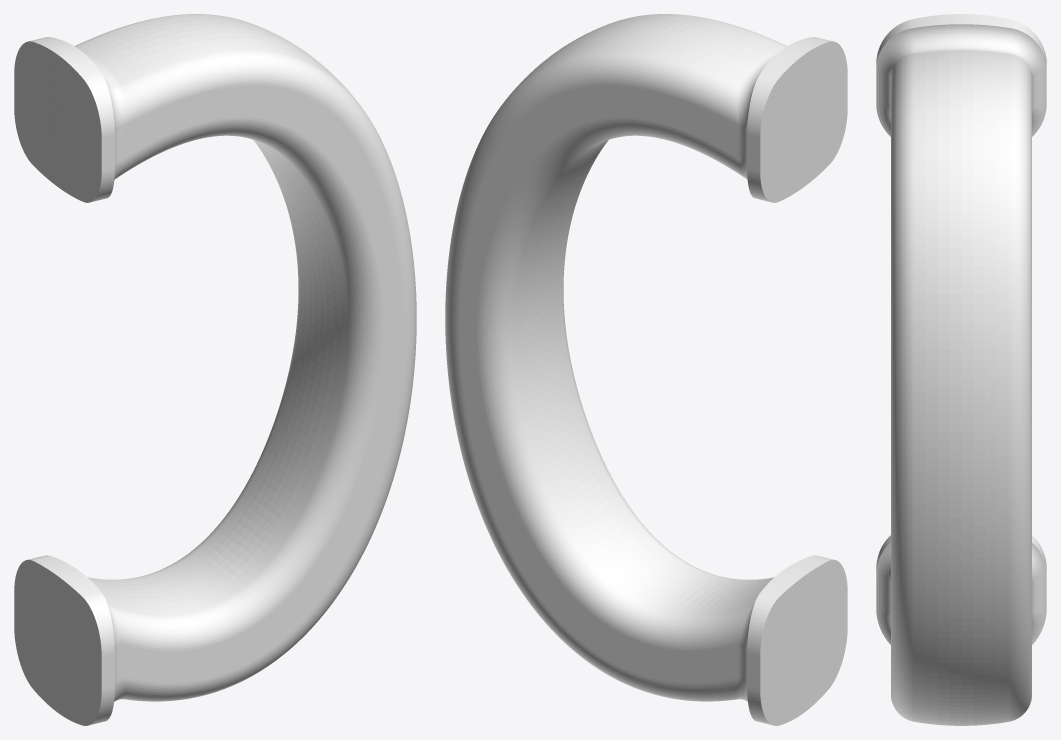
Rendered from handle-01.obj.
3 views of the same model, side by side, from view 1: azimuth 30°, elevation 25°; view 2: azimuth 150°, elevation 25°; view 3: azimuth 270°, elevation 25° (orthographic). The views are drawn at different scales.
Visible parts, largest first — view 1: handle-01; view 2: handle-01; view 3: handle-01.
Part boxes in pixels (left/top/right/bottom): handle-01: left=14, top=14, right=416, bottom=725; handle-01: left=445, top=14, right=847, bottom=725; handle-01: left=876, top=14, right=1046, bottom=725.
Bounding box in the file's own units: 40.23 × 75.15 × 18.12.
1 material, 1 textured.
